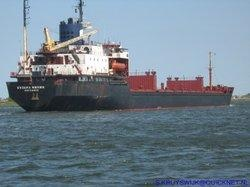Cargoship: (3, 1, 236, 114)
